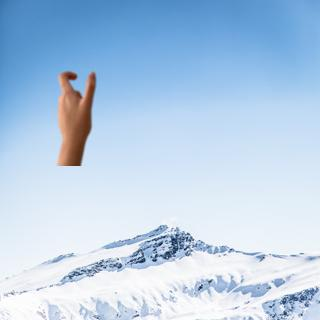Irritated: (46, 65, 103, 156)
